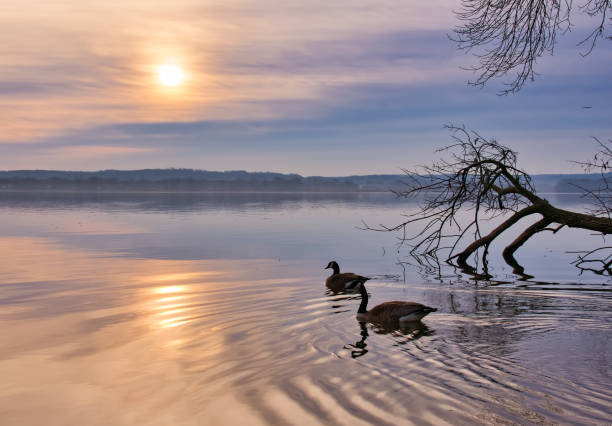goose: (343, 279, 438, 327), (323, 260, 370, 293)
